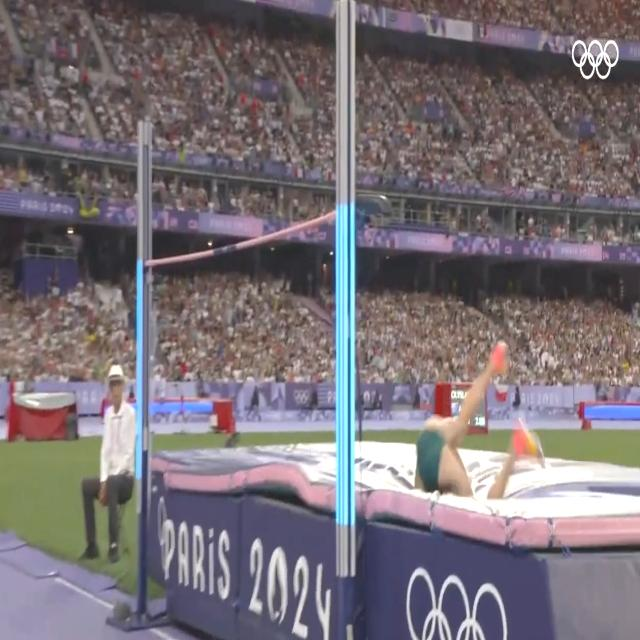land: (413, 337, 539, 499)
